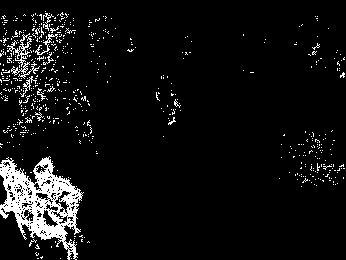person: (37, 154, 87, 260), (2, 155, 36, 260)
